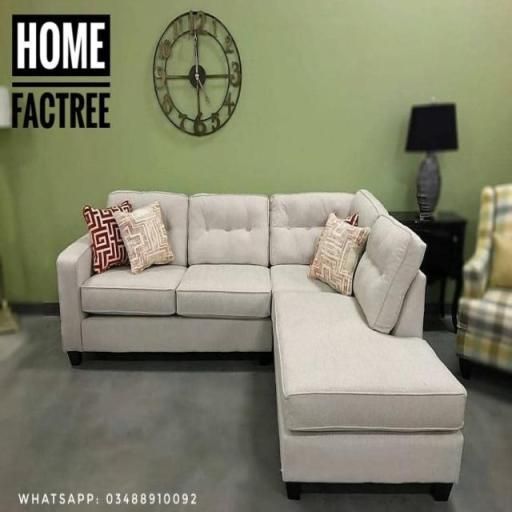sofa: (66, 179, 496, 512)
